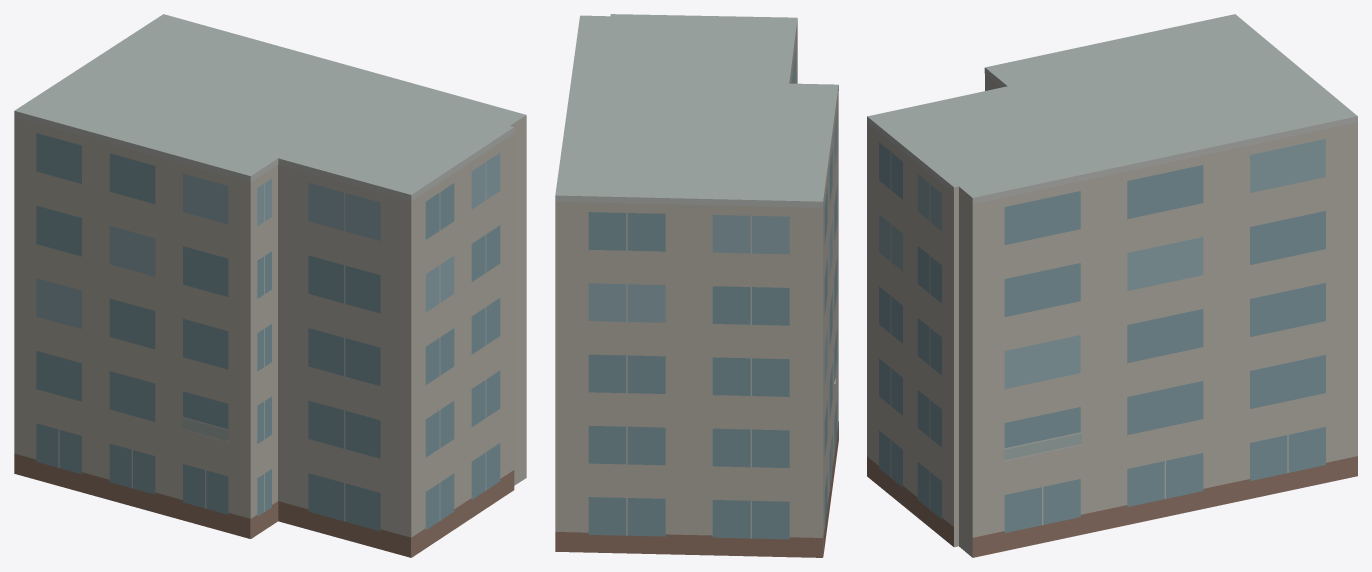
The model's file is survey-upis-32835755.glb.
3 renders of one model, left to right at view 1: azimuth 30°, elevation 25°; view 2: azimuth 150°, elevation 25°; view 3: azimuth 270°, elevation 25°, orthographic.
Parts seen in each view (by area): view 1: survey-upis-32835755.tmp; view 2: survey-upis-32835755.tmp; view 3: survey-upis-32835755.tmp.
Part boxes in pixels (box(x1,y1,x2,y2)): survey-upis-32835755.tmp: box(14, 14, 526, 557); survey-upis-32835755.tmp: box(555, 14, 838, 557); survey-upis-32835755.tmp: box(867, 14, 1357, 557).
Bounding box in the file's own units: 15.57 × 14.2 × 17.56.
